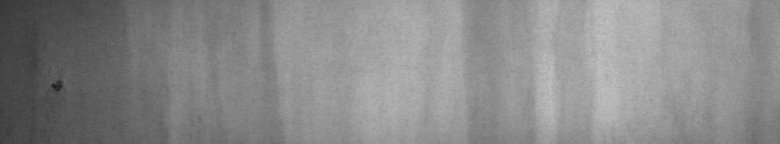fi: (40, 74, 71, 100)
